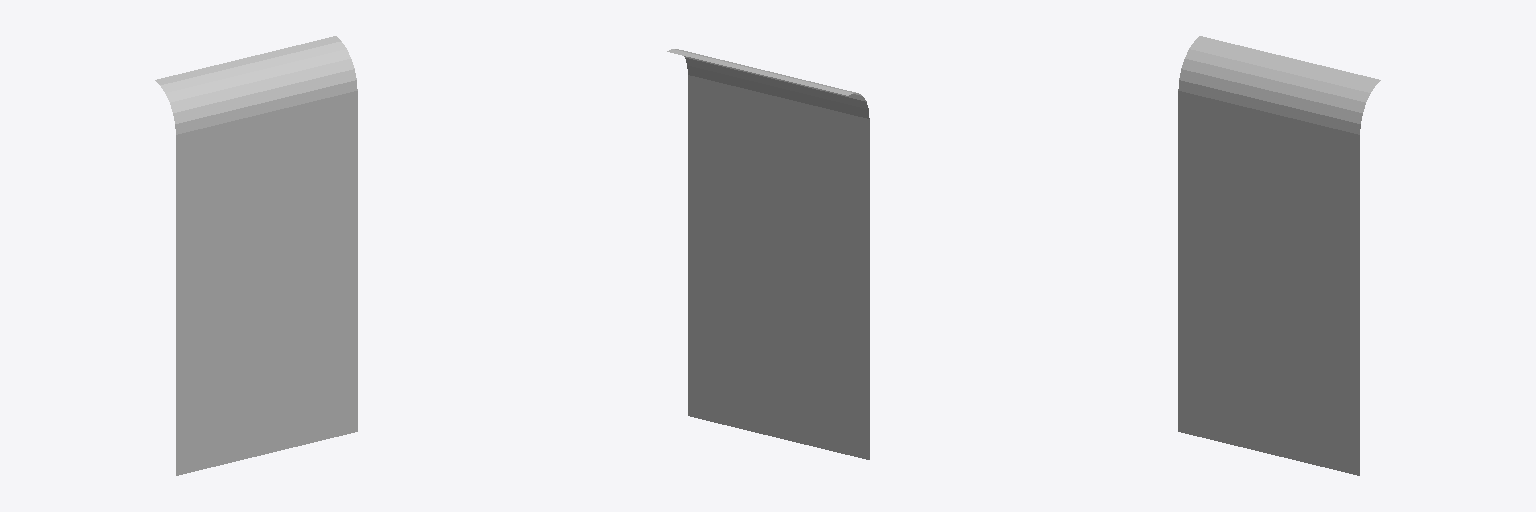
The model's file is WaterFall.obj.
3 renders of one model, left to right at view 1: azimuth 30°, elevation 25°; view 2: azimuth 150°, elevation 25°; view 3: azimuth 330°, elevation 25°, orthographic.
Parts seen in each view (by area): view 1: Plane; view 2: Plane; view 3: Plane.
Part boxes in pixels (bbox=[...]): Plane: bbox=[155, 36, 357, 475]; Plane: bbox=[667, 49, 869, 459]; Plane: bbox=[1178, 36, 1380, 475].
Size of the model in its own units: 2 by 4 by 0.4108.